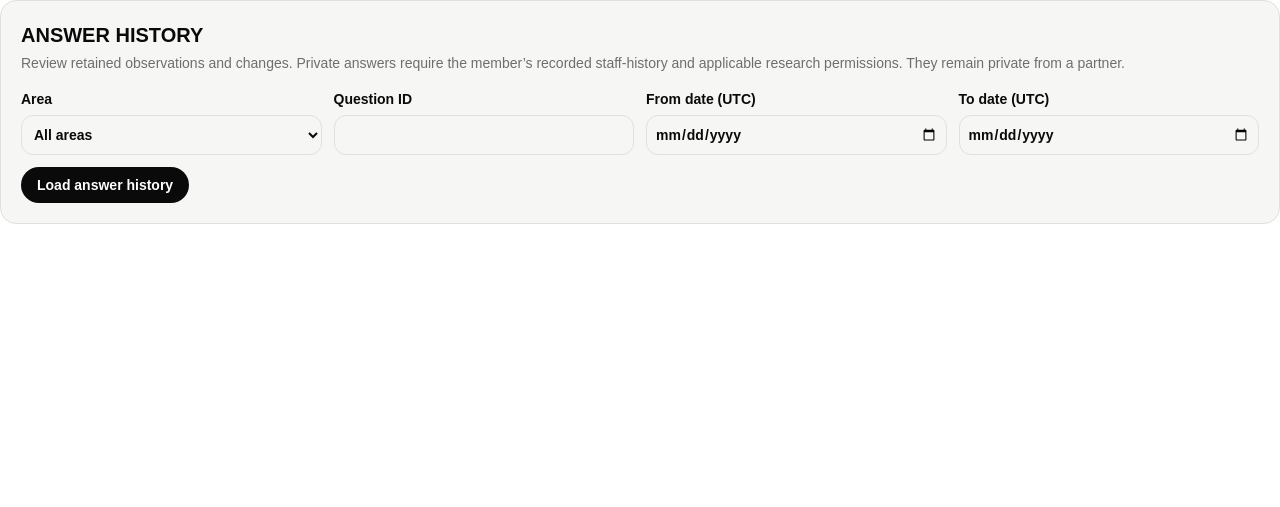
Test: CSV explicitly downloads one page and reuses the applied filters
The width and height of the screenshot is (1280, 507).
Submit the form, box [21,89,1259,203]
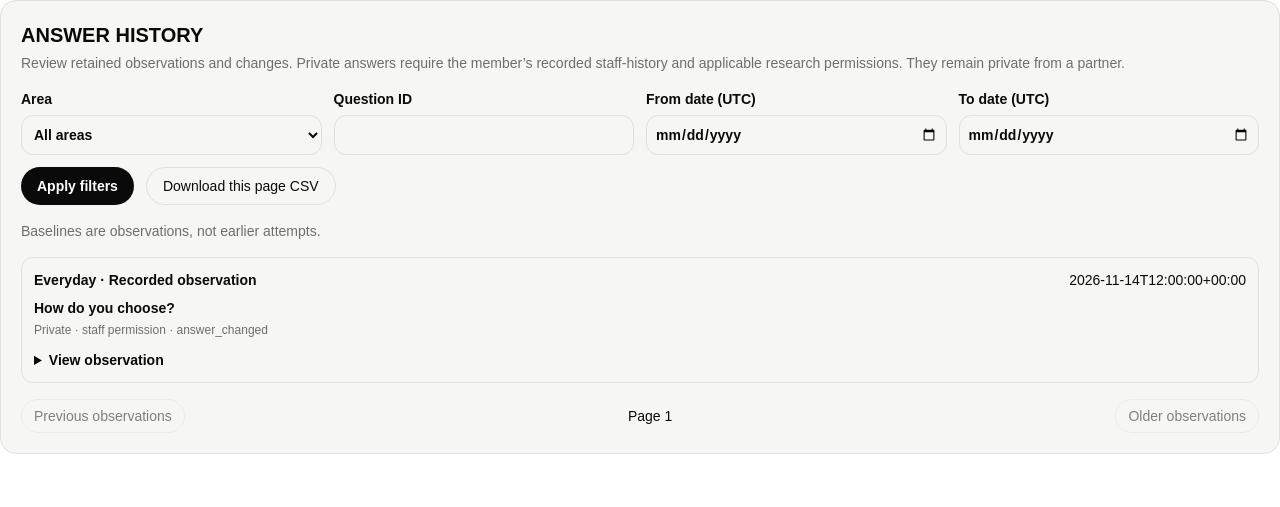
Click the button "Download this page CSV" at (241,186), box [146,167,336,205]
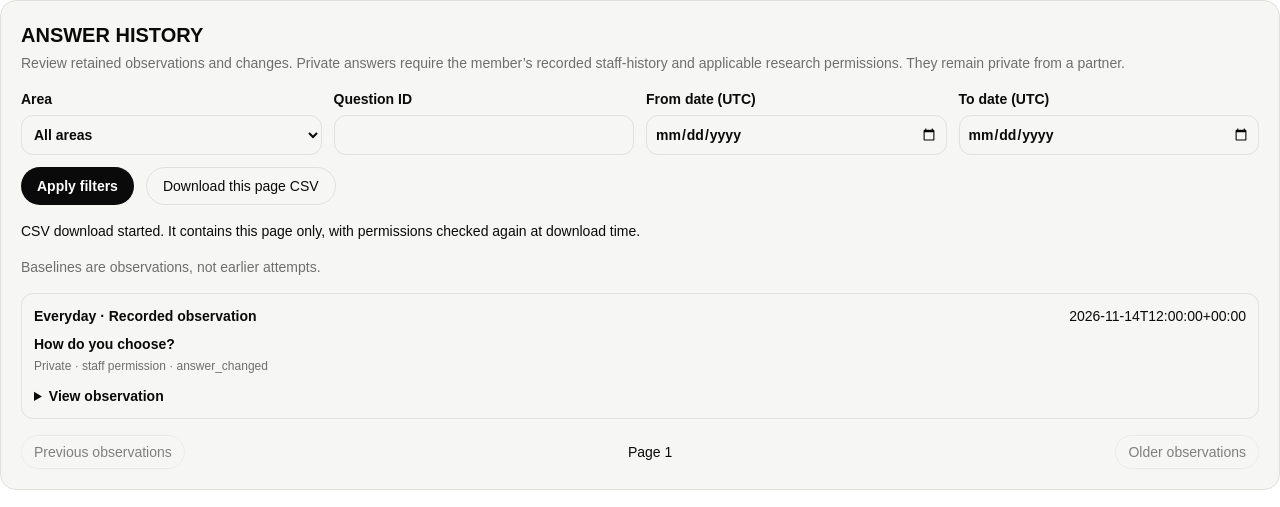
Result: the text "It contains this page only" is shown at [21,223,640,239]
